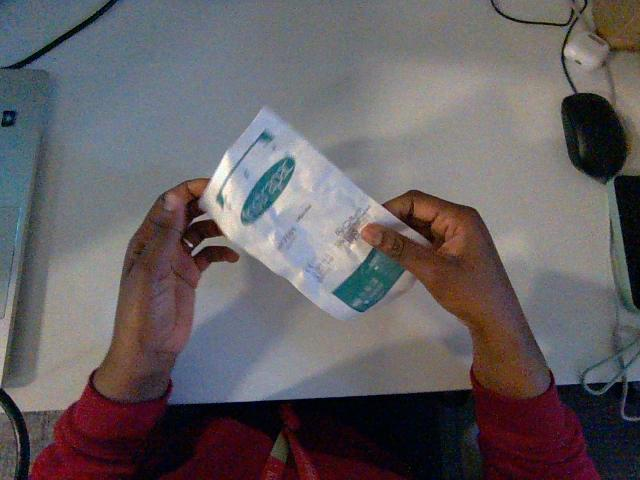gallipot: (200, 108, 424, 319)
